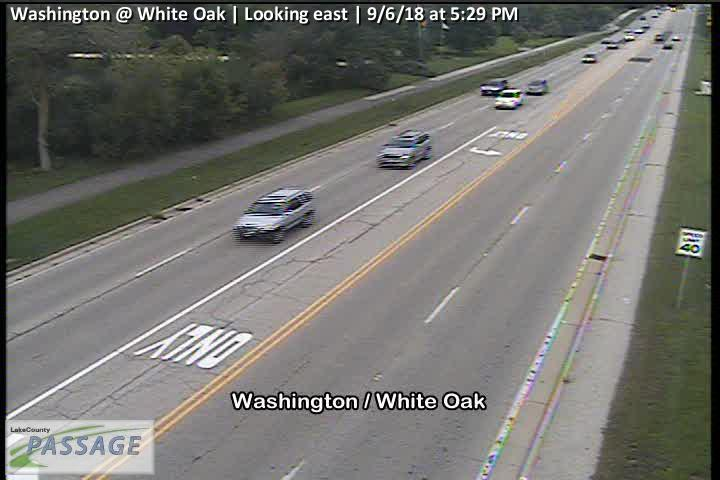SUV: (231, 185, 318, 245), (376, 127, 434, 170), (479, 77, 510, 95)
Sedan: (492, 88, 523, 112), (525, 78, 549, 95), (580, 53, 597, 64)
